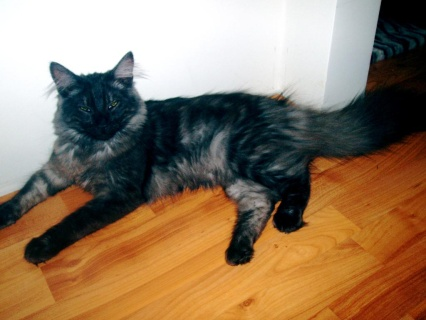Cat: (0, 51, 426, 265)
